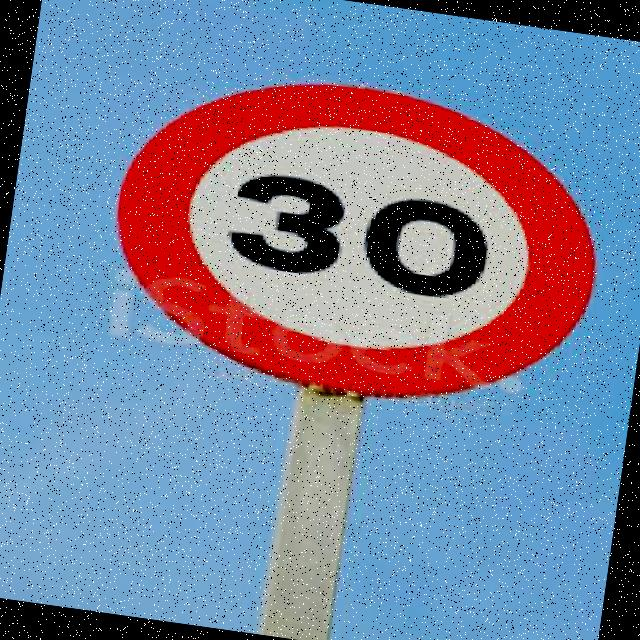Ograniczenie predkosci do 30: (98, 56, 618, 424)
